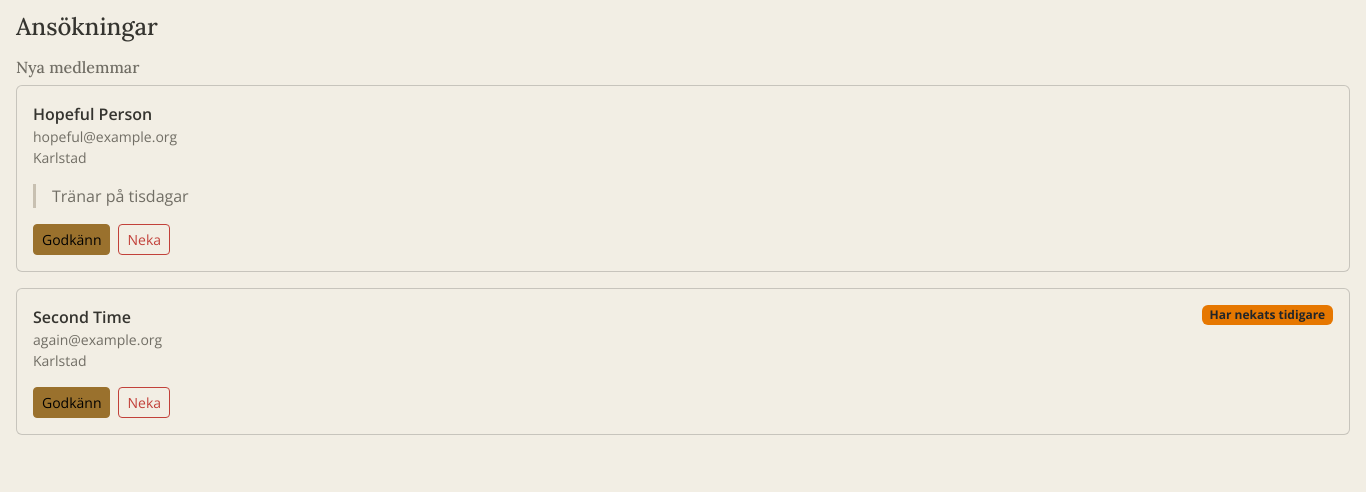
it: AdminRequests › when the server says no › still says plainly when nothing else explains it
This screenshot has width=1366, height=492.
Expected: the text "Hopeful Person" is shown, 33,103 -> 152,125
Click the button "Godkänn" below "Tränar på tisdagar": [72, 240] box 33,224 -> 110,255
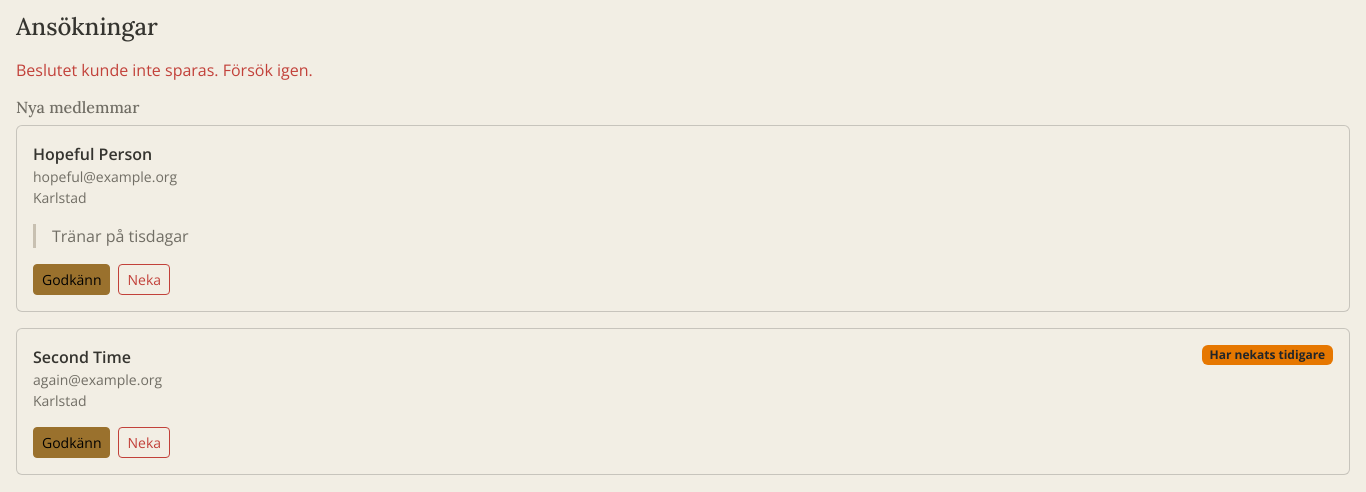
Expected: the text "Hopeful Person" is shown, 33,143 -> 152,165
Result: the text "Beslutet kunde inte sparas. Försök igen." is shown at 16,59 -> 313,81
